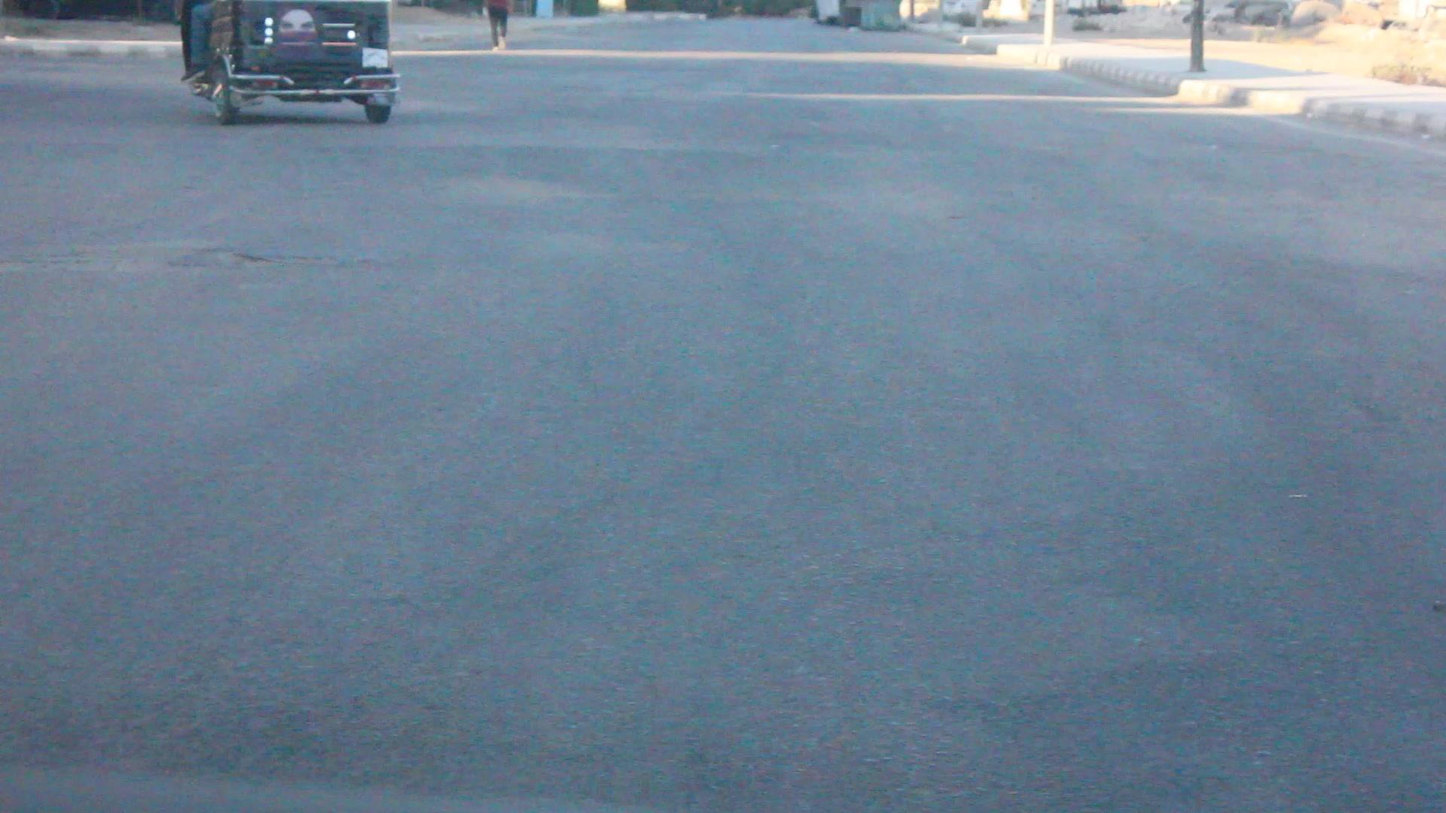Pothole: (40, 252, 352, 288)
